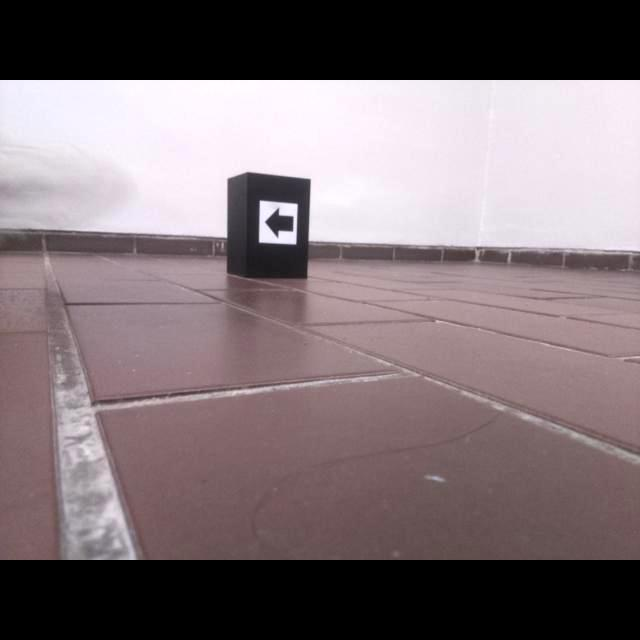LEFT: (264, 206, 294, 240)
